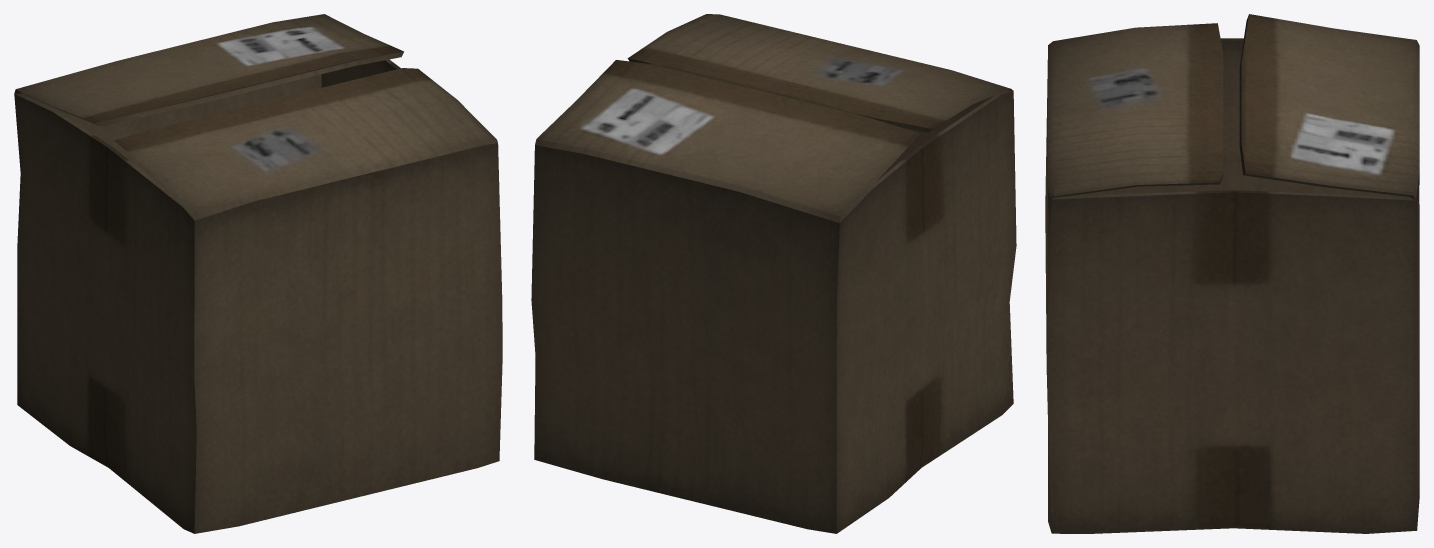
File: cardboard_box_2_1.obj
3 renders of one model, left to right at view 1: azimuth 30°, elevation 25°; view 2: azimuth 150°, elevation 25°; view 3: azimuth 270°, elevation 25°, orthographic. The views are drawn at different scales.
Parts seen in each view (by area): view 1: cardboard_box_2_1; view 2: cardboard_box_2_1; view 3: cardboard_box_2_1.
Part boxes in pixels (x1,y1,x2,y2): cardboard_box_2_1: (14,14,502,533); cardboard_box_2_1: (531,14,1016,533); cardboard_box_2_1: (1045,14,1419,533).
Size of the model in its own units: 0.7297 by 0.7775 by 0.7254.
